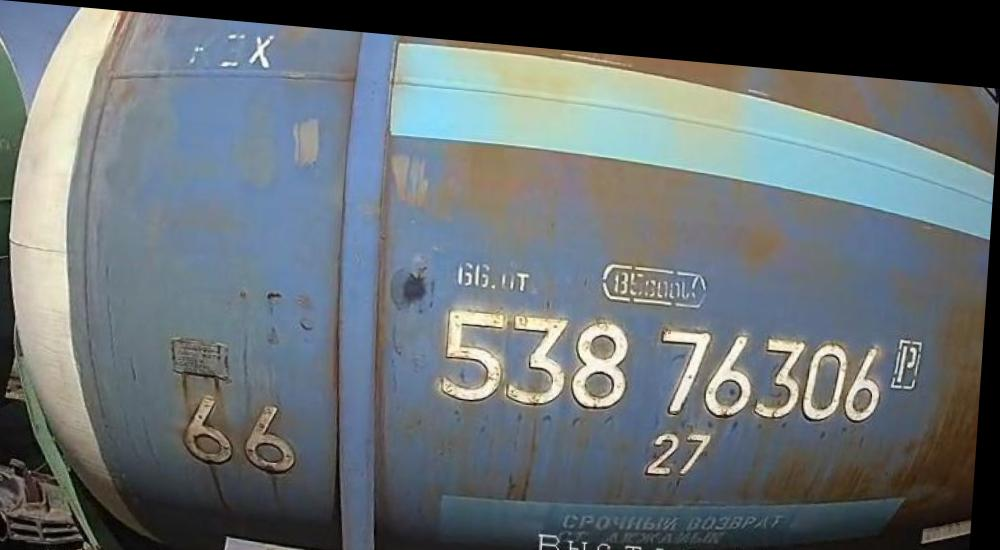Wagon-number: (438, 292, 893, 427)
